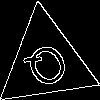Q: (21, 36, 78, 100)
